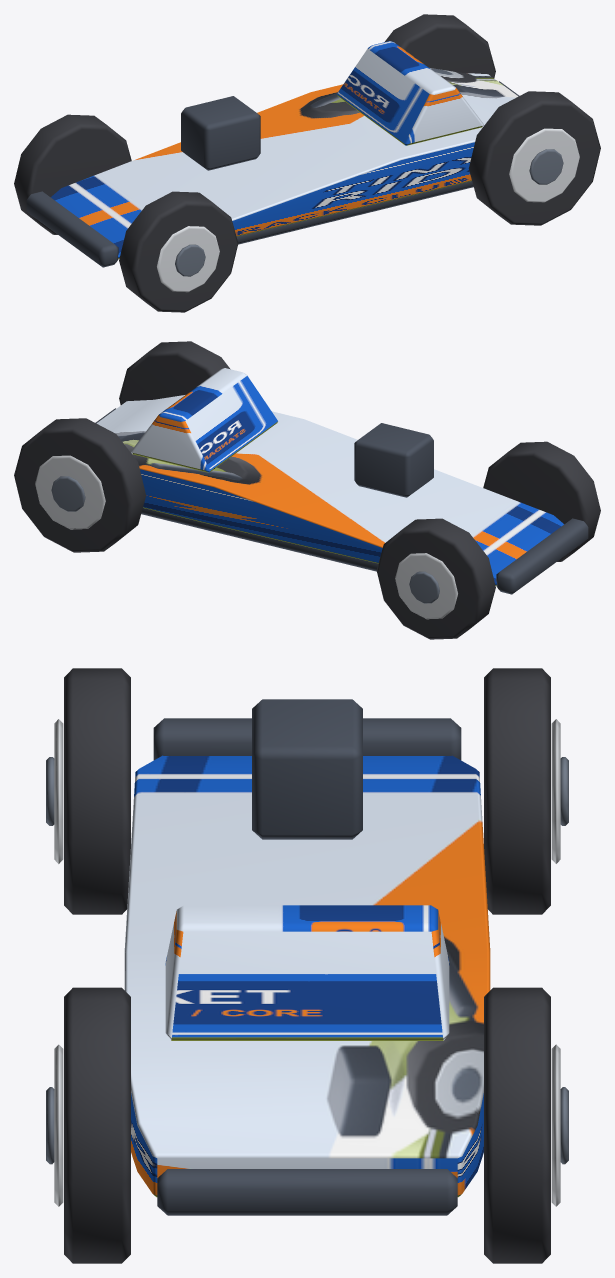
3 renders of one model, top to bottom at view 1: azimuth 30°, elevation 25°; view 2: azimuth 150°, elevation 25°; view 3: azimuth 270°, elevation 25°, orthographic. The views are drawn at different scales.
Visible parts, largest first — view 1: TC-04_connected_shell, Tire.002, TC-04_cabin, Tire, Tire.001, engine scoop, Tire.003, Rim.002, front bumper, Rim, underbody, Hub.002 (+1 smaller); view 2: TC-04_connected_shell, Tire.003, TC-04_cabin, Tire.001, Tire, engine scoop, Tire.002, Rim.003, front bumper, Rim.001, underbody, Hub.003 (+1 smaller); view 3: TC-04_connected_shell, TC-04_cabin, Tire.002, Tire.003, Tire, Tire.001, engine scoop, rear bumper, front bumper, Rim.002, Rim.003, Rim (+1 smaller).
Part boxes in pixels (box(x1,y1,x2,y2)): TC-04_connected_shell: box(51, 68, 518, 258); Tire.002: box(468, 91, 600, 225); TC-04_cabin: box(337, 41, 483, 145); Tire: box(119, 191, 238, 312); Tire.001: box(14, 114, 131, 234); engine scoop: box(181, 96, 260, 170); Tire.003: box(384, 14, 495, 78); Rim.002: box(509, 128, 579, 202); front bumper: box(26, 191, 118, 267); Rim: box(157, 226, 219, 292); underbody: box(236, 181, 473, 244); Hub.002: box(529, 149, 563, 184); TC-04_connected_shell: box(96, 395, 563, 585); Tire.003: box(14, 418, 146, 552); TC-04_cabin: box(131, 368, 277, 472); Tire.001: box(376, 518, 495, 639); Tire: box(483, 441, 600, 561); engine scoop: box(354, 423, 433, 497); Tire.002: box(119, 341, 230, 405); Rim.003: box(35, 455, 105, 529); front bumper: box(496, 518, 588, 594); Rim.001: box(395, 553, 457, 619); underbody: box(141, 508, 378, 571); Hub.003: box(51, 476, 85, 511); TC-04_connected_shell: box(124, 755, 490, 1197); TC-04_cabin: box(165, 905, 449, 1040); Tire.002: box(64, 987, 130, 1263); Tire.003: box(484, 987, 550, 1263); Tire: box(64, 668, 130, 914); Tire.001: box(484, 668, 550, 914); engine scoop: box(252, 699, 362, 839); rear bumper: box(157, 1169, 457, 1215); front bumper: box(153, 718, 461, 760); Rim.002: box(54, 1044, 63, 1206); Rim.003: box(551, 1044, 560, 1206); Rim: box(54, 719, 63, 863).
Size of the model in its own units: 430 by 117 by 203.
